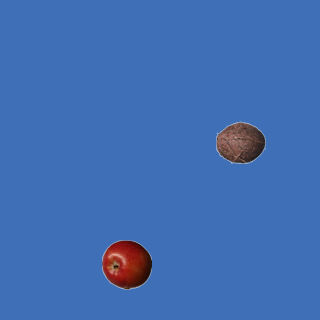Apple Braeburn: (101, 239, 151, 289)
Cocos: (215, 117, 265, 167)
